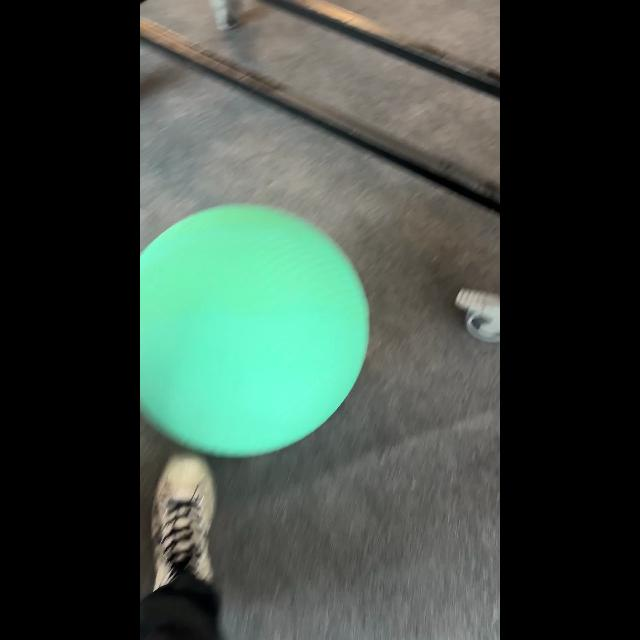ALGAE: (140, 202, 370, 458)
